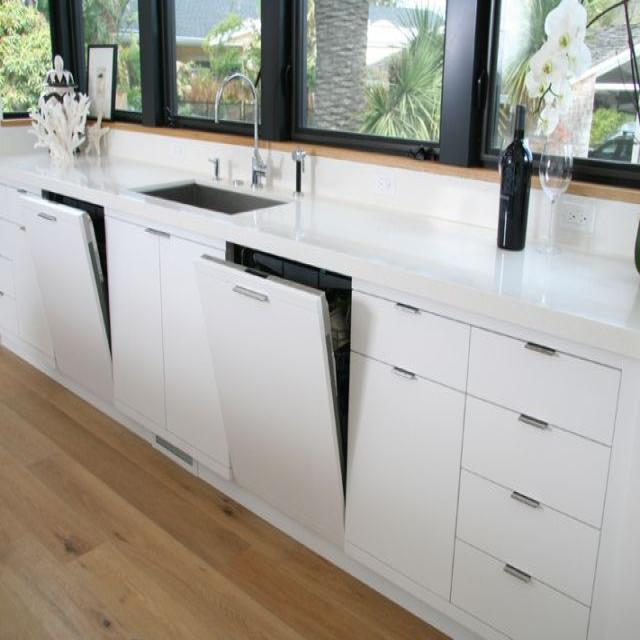dishwasher: (193, 234, 361, 560), (15, 187, 121, 425)
